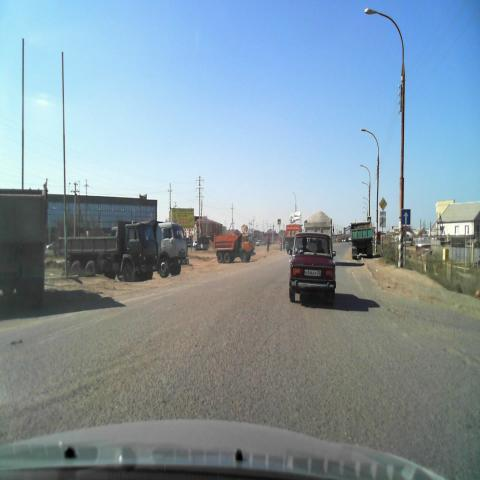5_5: (401, 208, 411, 226)
